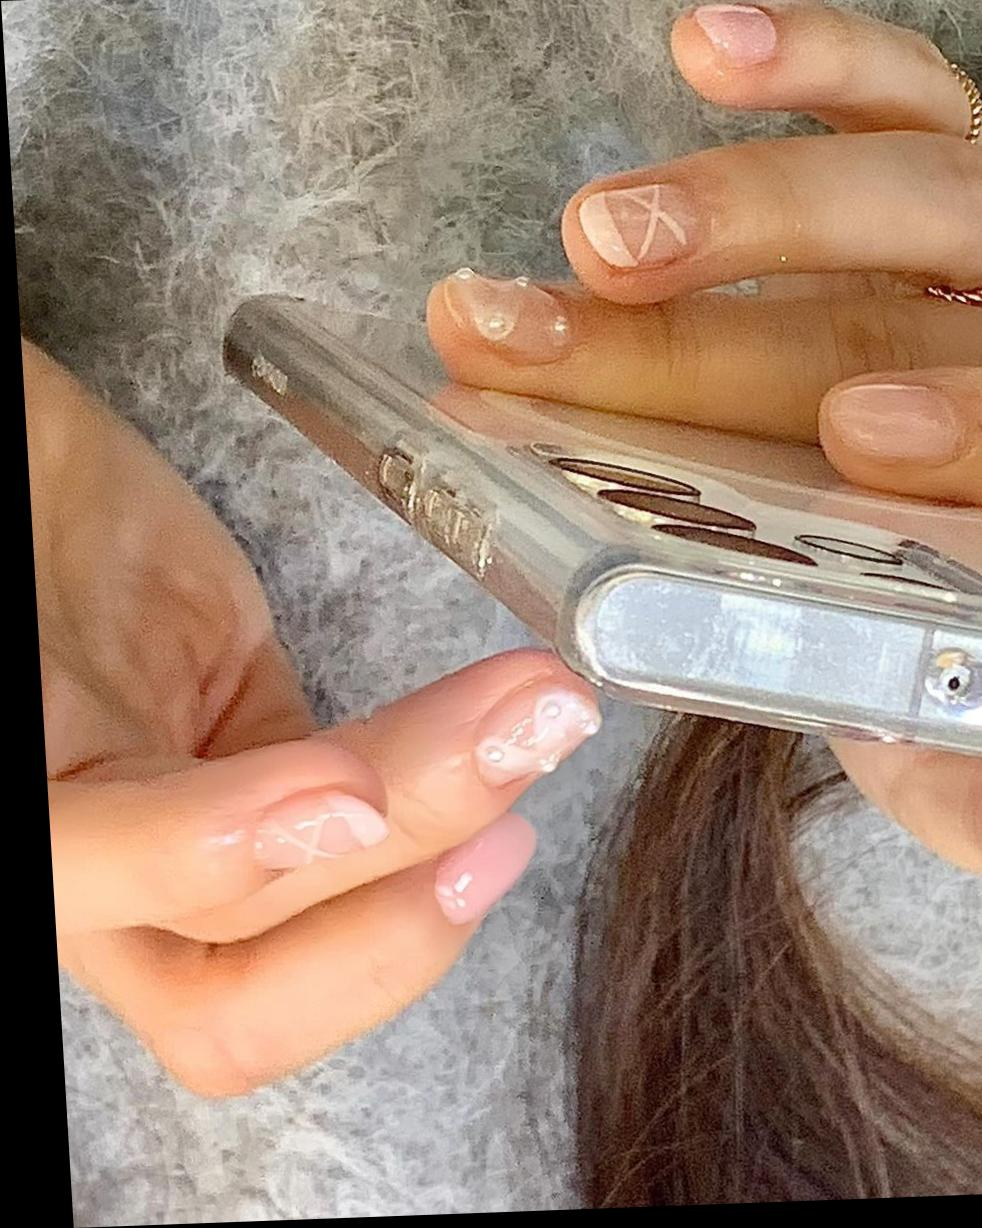nail: (469, 674, 604, 788), (818, 375, 969, 475), (426, 810, 542, 929), (247, 785, 390, 870), (574, 180, 692, 274), (690, 0, 778, 70)
